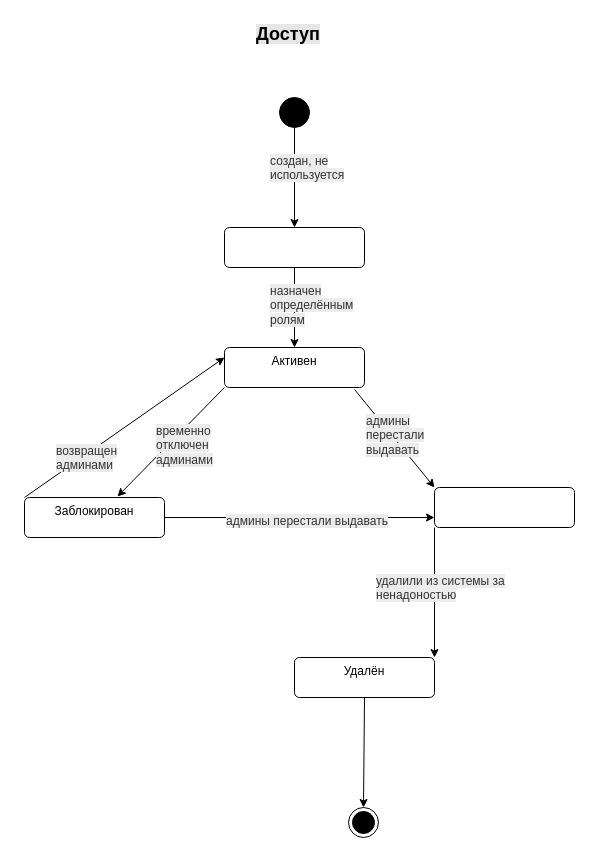
This 592x855 diagram has some shape labels left out. The centre of each missing label's shape, as x and y in pixels:
"Архивен" goes at point 504,507.
"Черновик" goes at point 294,247.
